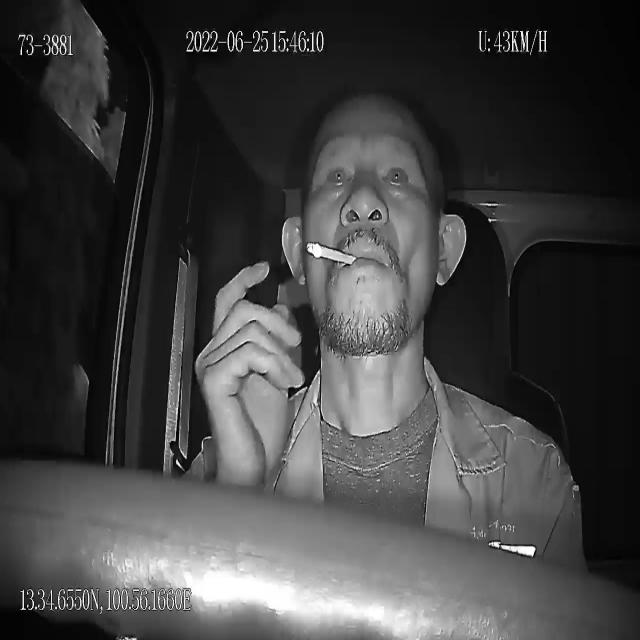Cigarette: (307, 239, 356, 266)
